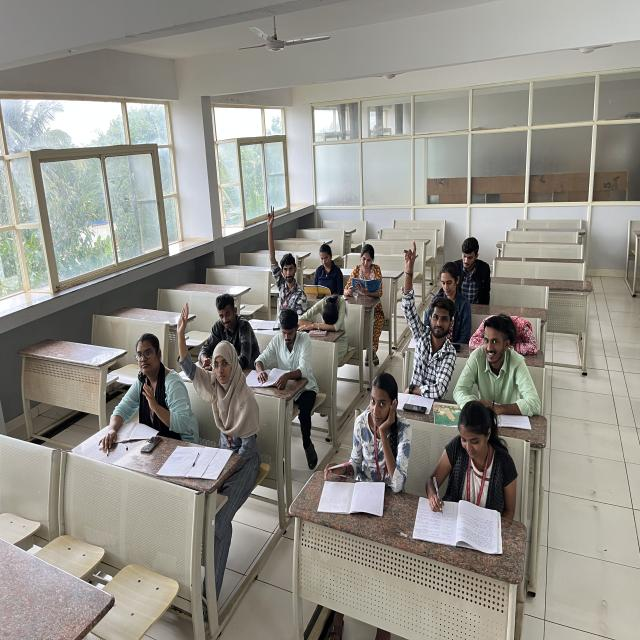Hand Rising: (172, 302, 256, 468), (399, 235, 455, 392), (256, 203, 301, 301)
Reading: (254, 308, 316, 398), (342, 240, 392, 304), (302, 235, 340, 293)
Sleeping: (302, 292, 348, 341)
Writing: (418, 396, 516, 556), (333, 368, 408, 510)
